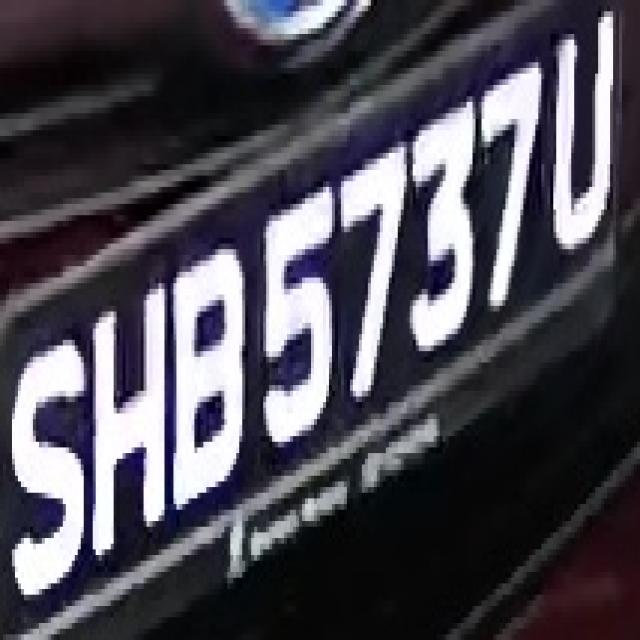3: (398, 96, 476, 351)
5: (251, 175, 338, 458)
7: (323, 130, 401, 430), (470, 68, 544, 323)
B: (165, 232, 248, 521)
H: (81, 266, 167, 572)
S: (12, 323, 87, 612)
U: (541, 6, 616, 260)
